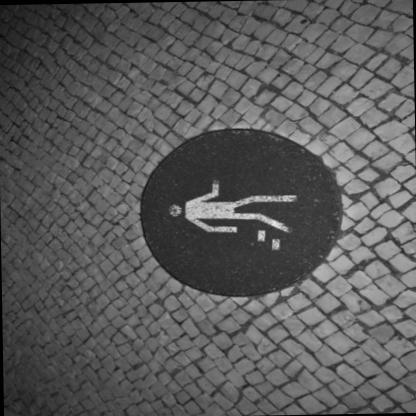manholes: (119, 108, 360, 314)
